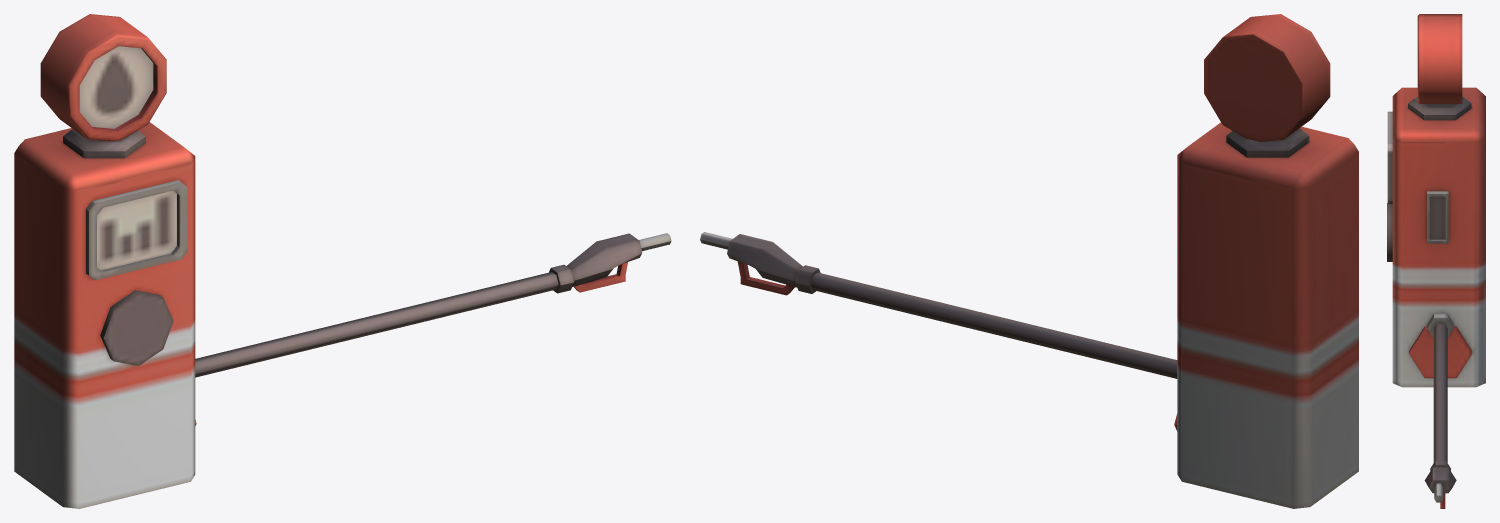
Rendered from 加油站.glb.
3 renders of one model, left to right at view 1: azimuth 30°, elevation 25°; view 2: azimuth 150°, elevation 25°; view 3: azimuth 270°, elevation 25°, orthographic. The views are drawn at different scales.
Visible parts, largest first — view 1: SM_jiayouzhan; view 2: SM_jiayouzhan; view 3: SM_jiayouzhan.
Boxes of the visible parts, <box> form: SM_jiayouzhan: <box>14,14,671,508</box>; SM_jiayouzhan: <box>700,14,1358,508</box>; SM_jiayouzhan: <box>1387,14,1485,508</box>.
Size of the model in its own units: 3.66 by 2.49 by 0.6459.
1 material, 1 textured.
